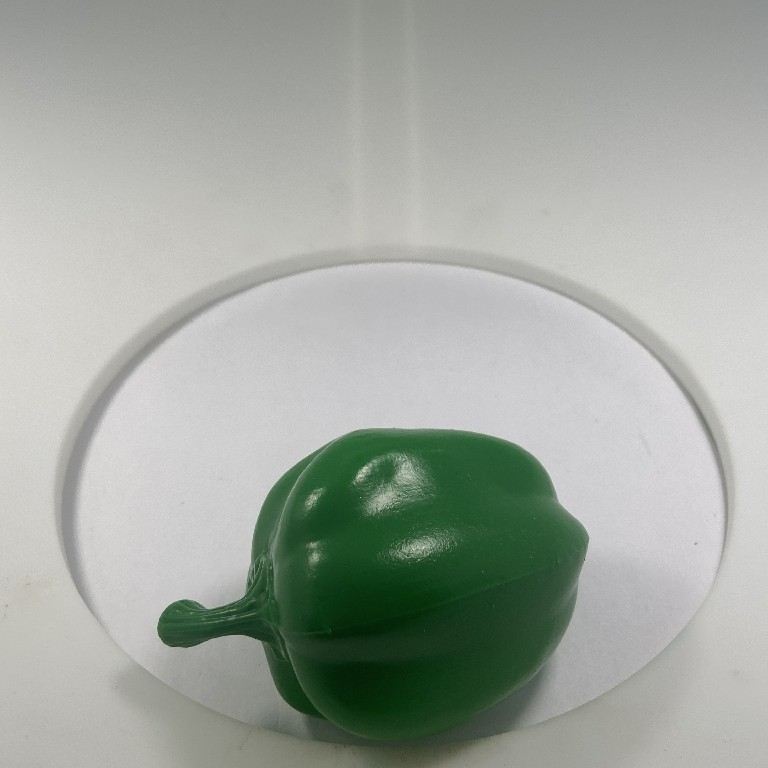fruit_pepper: (151, 425, 594, 749)
